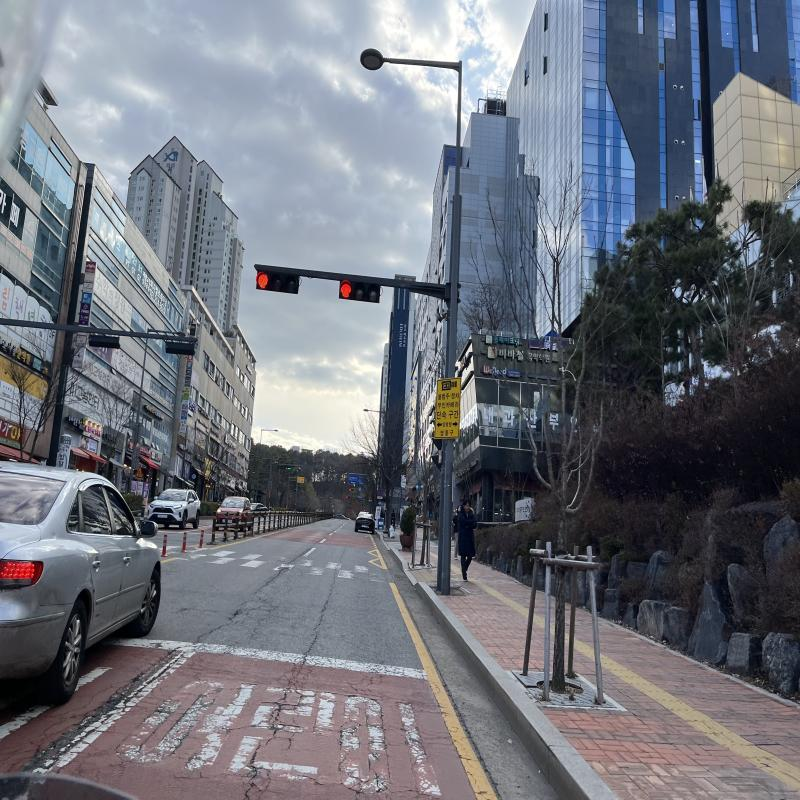red: (339, 280, 354, 300), (257, 271, 270, 290)
